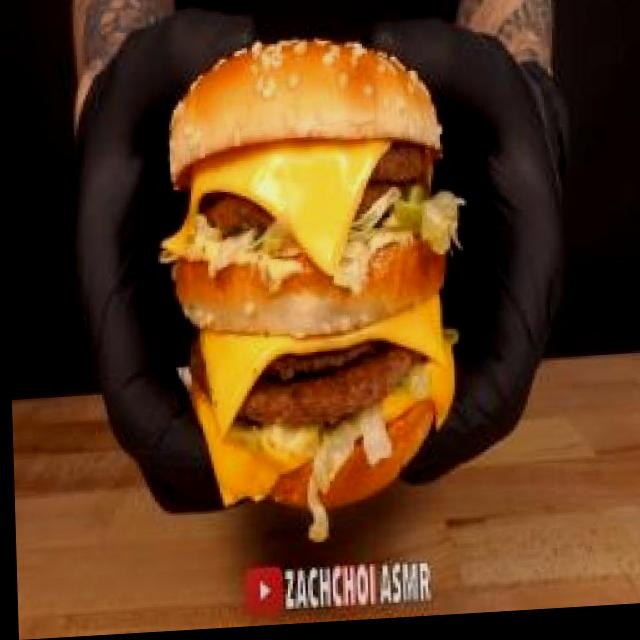burger: (159, 16, 481, 551)
